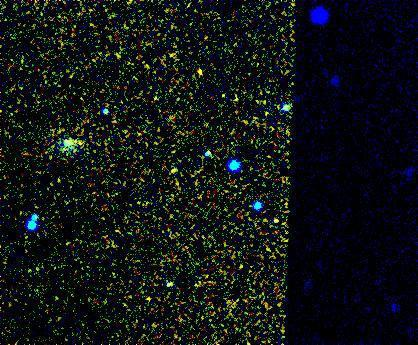star: (185, 57, 215, 87)
